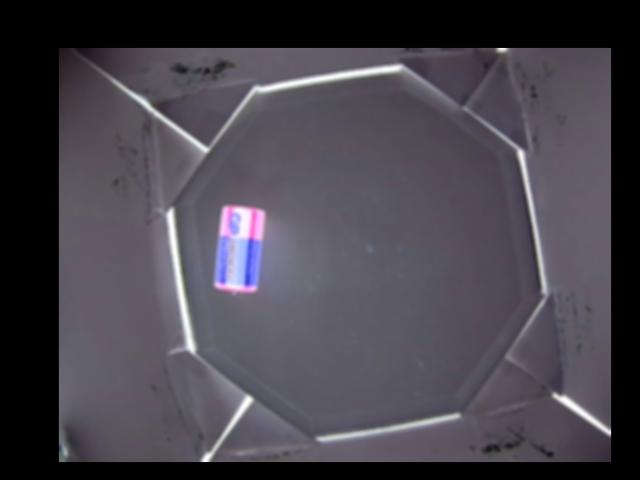Battery: (211, 204, 264, 294)
